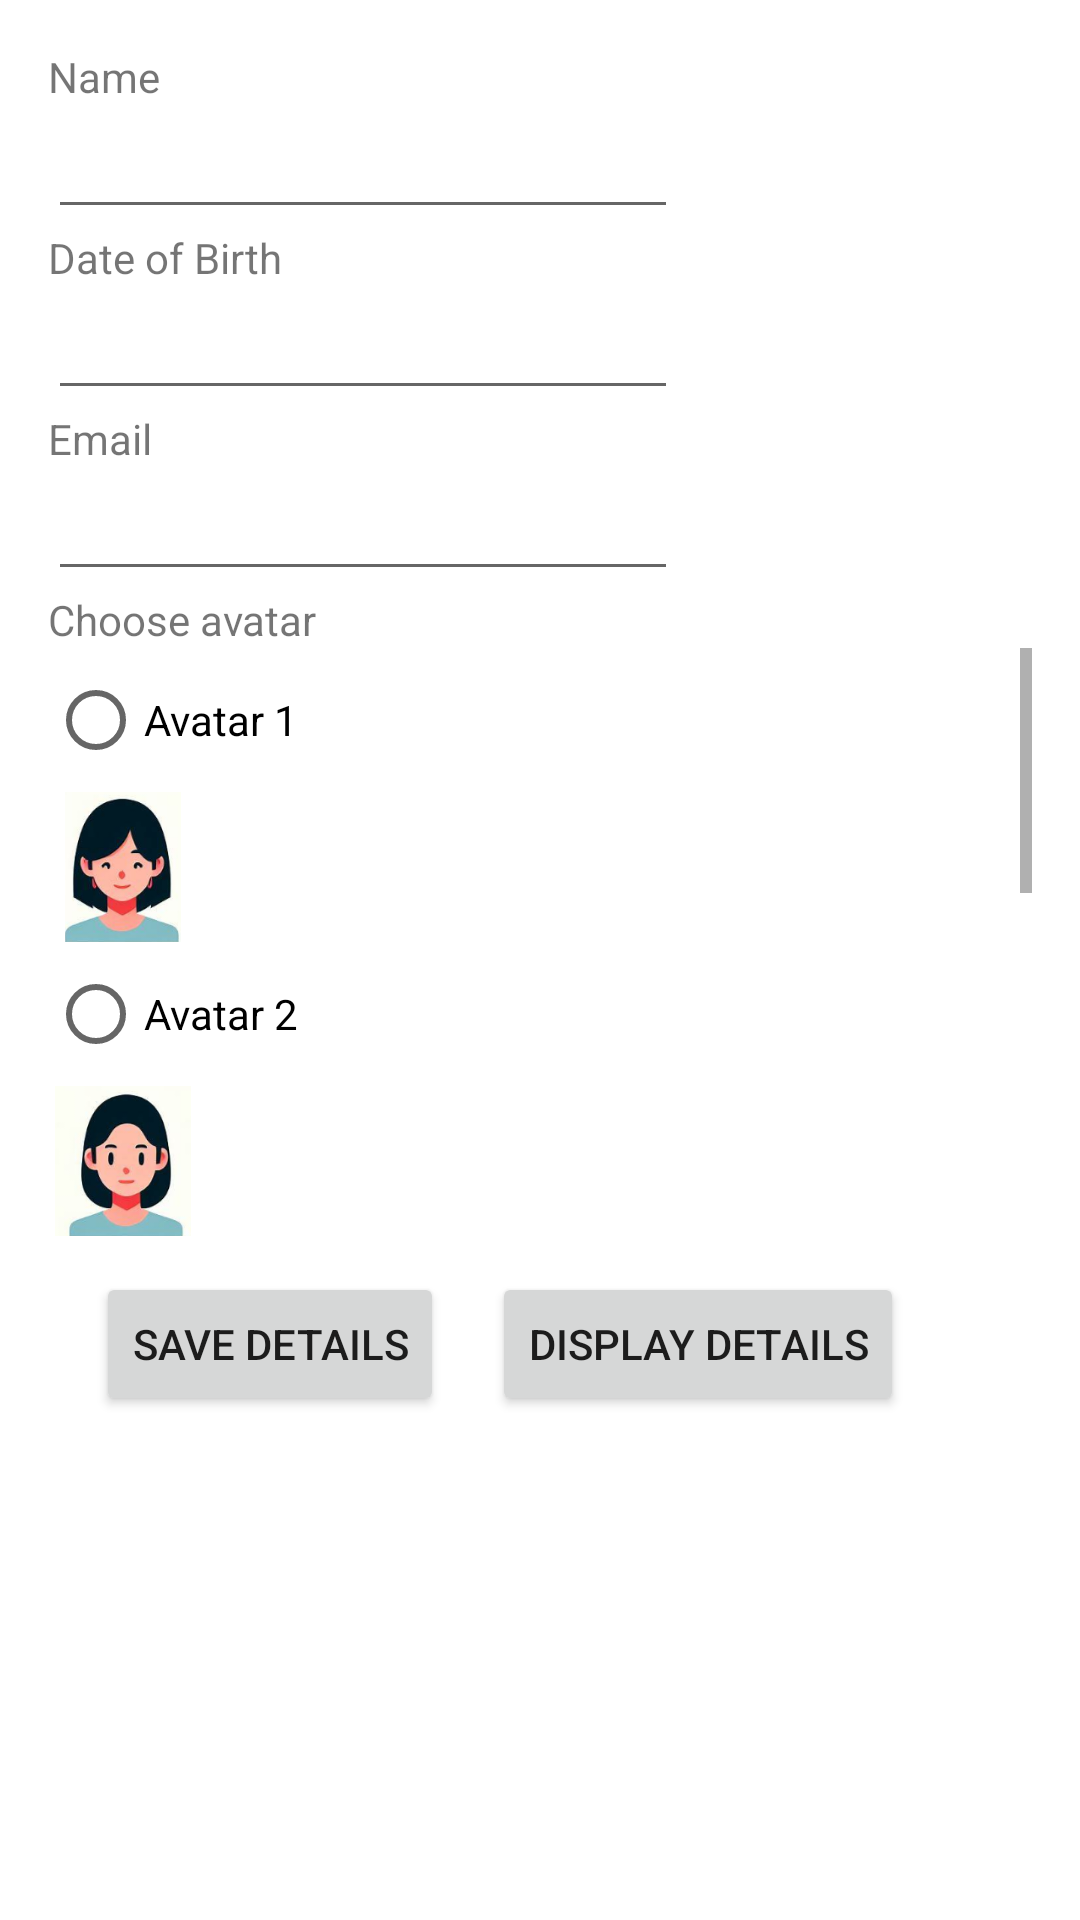

Point at icon controls on the screen. Image size 1080x1920, points as point (x, y).
avt: point (122, 870), point (126, 1165)
